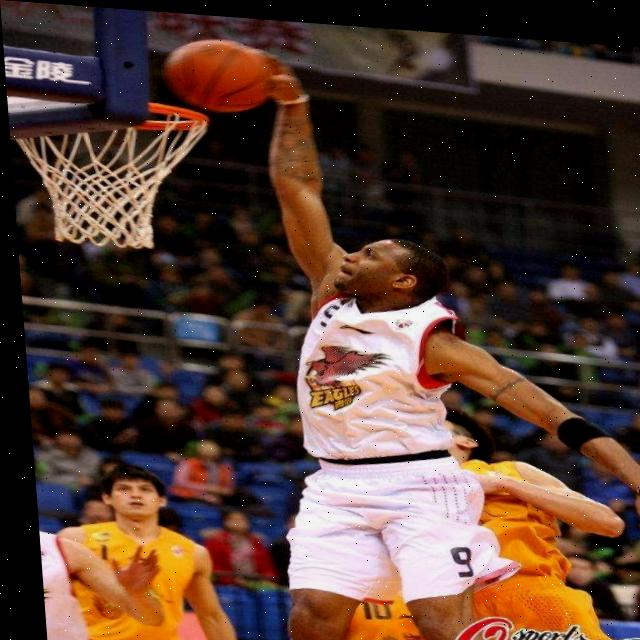basketball: (160, 33, 276, 116)
hoop: (13, 95, 214, 257)
